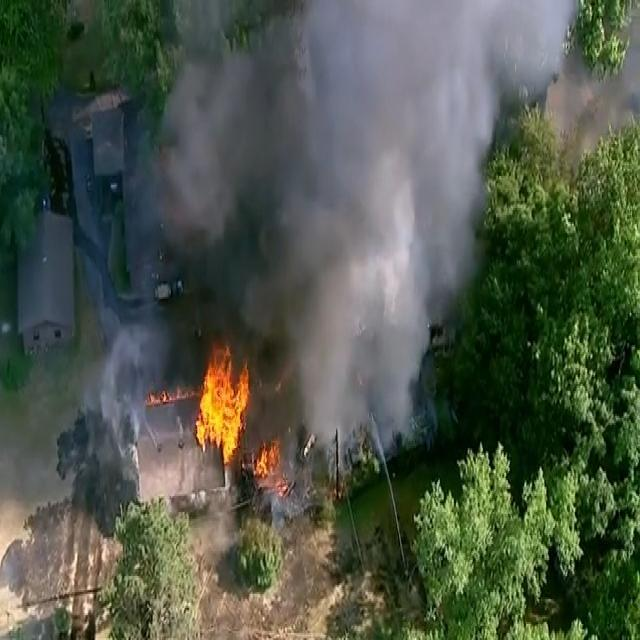Fire: (195, 347, 246, 468), (144, 380, 204, 406), (258, 442, 284, 494)
Smoke: (147, 0, 580, 464)
